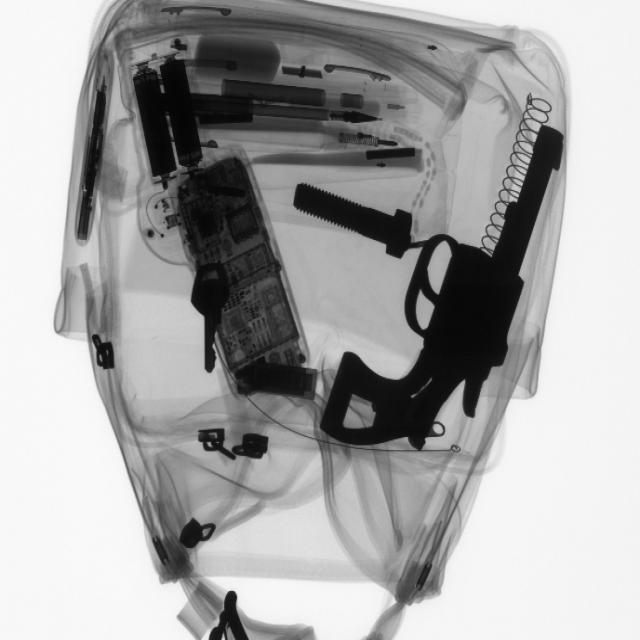GUN: (314, 141, 565, 462)
